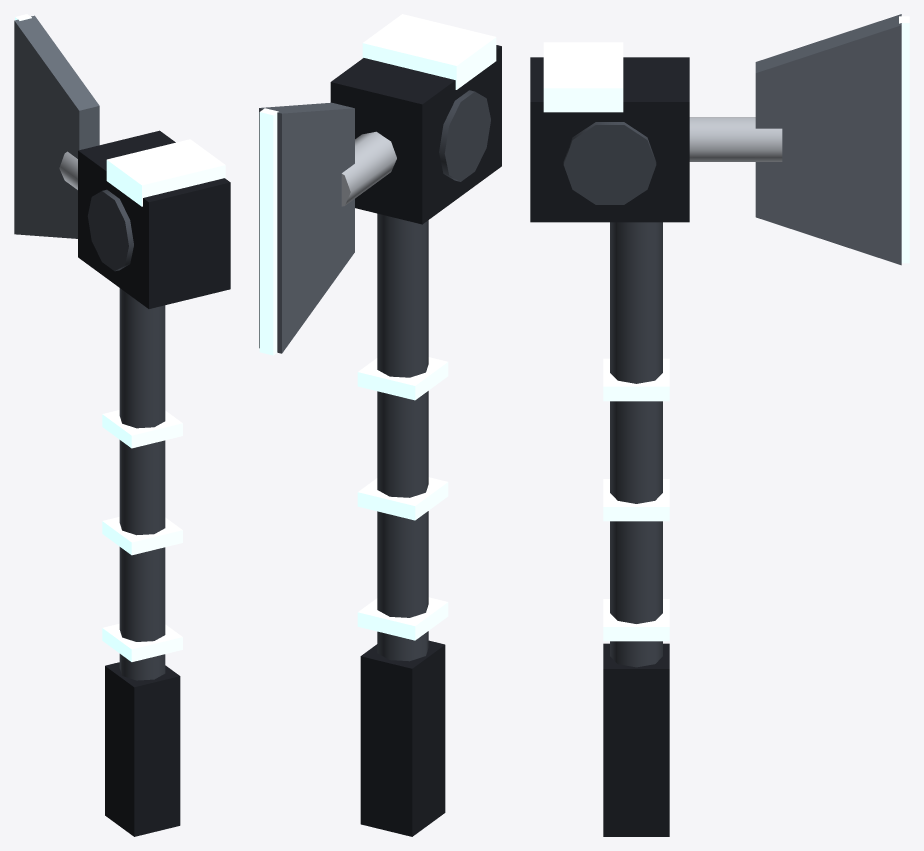
The model's file is tool_robo.glb.
3 views of the same model, side by side, from view 1: azimuth 30°, elevation 25°; view 2: azimuth 150°, elevation 25°; view 3: azimuth 270°, elevation 25° (orthographic). The views are drawn at different scales.
Parts seen in each view (by area): view 1: _MeshInstance3D_938, _MeshInstance3D_934, _MeshInstance3D_941, _MeshInstance3D_933, _MeshInstance3D_943, _MeshInstance3D_939, _MeshInstance3D_936, _MeshInstance3D_935, _MeshInstance3D_937, _MeshInstance3D_940; view 2: _MeshInstance3D_934, _MeshInstance3D_938, _MeshInstance3D_941, _MeshInstance3D_933, _MeshInstance3D_943, _MeshInstance3D_942, _MeshInstance3D_939, _MeshInstance3D_940, _MeshInstance3D_936, _MeshInstance3D_935, _MeshInstance3D_937; view 3: _MeshInstance3D_941, _MeshInstance3D_934, _MeshInstance3D_938, _MeshInstance3D_933, _MeshInstance3D_939, _MeshInstance3D_943, _MeshInstance3D_940, _MeshInstance3D_942, _MeshInstance3D_937, _MeshInstance3D_936, _MeshInstance3D_935.
Boxes of the visible parts, left/top/right/bottom form: _MeshInstance3D_938: left=78, top=130, right=230, bottom=308; _MeshInstance3D_934: left=119, top=288, right=165, bottom=680; _MeshInstance3D_941: left=14, top=15, right=99, bottom=238; _MeshInstance3D_933: left=105, top=662, right=180, bottom=836; _MeshInstance3D_943: left=106, top=139, right=225, bottom=206; _MeshInstance3D_939: left=87, top=189, right=133, bottom=271; _MeshInstance3D_936: left=102, top=517, right=182, bottom=555; _MeshInstance3D_935: left=102, top=623, right=182, bottom=661; _MeshInstance3D_937: left=102, top=410, right=182, bottom=448; _MeshInstance3D_940: left=59, top=151, right=77, bottom=189; _MeshInstance3D_934: left=377, top=213, right=428, bottom=661; _MeshInstance3D_938: left=330, top=45, right=501, bottom=224; _MeshInstance3D_941: left=259, top=102, right=354, bottom=353; _MeshInstance3D_933: left=360, top=640, right=445, bottom=836; _MeshInstance3D_943: left=362, top=14, right=496, bottom=89; _MeshInstance3D_942: left=259, top=108, right=278, bottom=355; _MeshInstance3D_939: left=439, top=90, right=490, bottom=181; _MeshInstance3D_940: left=341, top=131, right=396, bottom=206; _MeshInstance3D_936: left=357, top=477, right=448, bottom=520; _MeshInstance3D_935: left=357, top=597, right=448, bottom=640; _MeshInstance3D_937: left=357, top=357, right=448, bottom=400; _MeshInstance3D_941: left=755, top=14, right=901, bottom=265; _MeshInstance3D_934: left=610, top=222, right=662, bottom=667; _MeshInstance3D_938: left=530, top=57, right=689, bottom=222; _MeshInstance3D_933: left=603, top=643, right=669, bottom=836; _MeshInstance3D_939: left=563, top=122, right=656, bottom=204; _MeshInstance3D_943: left=543, top=42, right=623, bottom=112; _MeshInstance3D_940: left=689, top=117, right=782, bottom=161; _MeshInstance3D_942: left=899, top=16, right=909, bottom=263; _MeshInstance3D_937: left=603, top=358, right=669, bottom=401; _MeshInstance3D_936: left=603, top=479, right=669, bottom=521; _MeshInstance3D_935: left=603, top=599, right=669, bottom=641.
Bounding box in the file's own units: 0.09 × 0.67 × 0.286.
